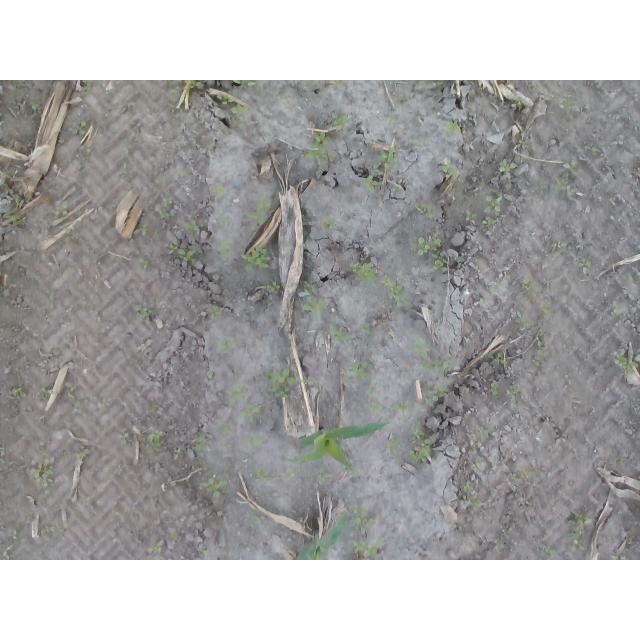Maize: (282, 422, 390, 473), (293, 510, 348, 560)
Weeds: (300, 280, 328, 322), (567, 511, 593, 553), (306, 131, 337, 165), (381, 273, 412, 307), (263, 367, 297, 398), (247, 197, 272, 232), (166, 237, 198, 264), (349, 261, 379, 288), (353, 505, 379, 536), (240, 246, 272, 271), (410, 436, 437, 464), (613, 349, 639, 376), (30, 459, 54, 488), (352, 538, 383, 560), (411, 236, 442, 257), (410, 329, 431, 359), (199, 478, 228, 499), (153, 195, 176, 221), (423, 385, 449, 407), (216, 238, 237, 265), (225, 383, 250, 405), (372, 147, 396, 169), (144, 430, 165, 455), (556, 177, 577, 198), (498, 159, 518, 181), (349, 361, 371, 381), (359, 175, 383, 193), (412, 201, 436, 219), (515, 278, 535, 299), (312, 466, 333, 486), (243, 432, 263, 453), (131, 304, 157, 320), (240, 402, 260, 422), (532, 333, 544, 366), (63, 225, 80, 248), (432, 250, 449, 273), (2, 207, 21, 226), (229, 104, 249, 121), (394, 398, 415, 414), (507, 387, 522, 409), (434, 359, 459, 372), (485, 195, 503, 213), (330, 326, 350, 342), (208, 182, 226, 199), (332, 112, 349, 130), (217, 338, 236, 354), (364, 401, 385, 415), (486, 351, 507, 365), (194, 436, 211, 453), (516, 309, 532, 327), (122, 134, 135, 155), (442, 160, 459, 176), (386, 437, 402, 453), (70, 121, 87, 136), (484, 381, 501, 396), (253, 469, 270, 484), (65, 381, 79, 399), (411, 421, 425, 439), (183, 220, 202, 233), (39, 386, 54, 402), (29, 100, 44, 116), (280, 469, 296, 484), (444, 119, 461, 133), (217, 94, 235, 107), (562, 161, 578, 175), (228, 80, 256, 88), (464, 210, 478, 226), (321, 215, 337, 229), (577, 258, 591, 274), (551, 239, 567, 253), (10, 386, 27, 399), (266, 280, 283, 293), (132, 224, 148, 237), (216, 422, 232, 435), (208, 305, 221, 320), (482, 217, 499, 228), (79, 141, 93, 154), (130, 120, 143, 134), (412, 135, 425, 149), (137, 258, 151, 271), (118, 431, 131, 445), (467, 496, 481, 509), (612, 301, 626, 314), (55, 202, 68, 215), (216, 215, 230, 227), (559, 98, 573, 110), (99, 397, 114, 408), (494, 539, 505, 554), (543, 545, 558, 556), (40, 525, 56, 535), (119, 162, 129, 178), (540, 302, 552, 315), (366, 382, 378, 395), (78, 448, 91, 460), (251, 514, 268, 523), (185, 80, 202, 89), (521, 470, 538, 479), (147, 544, 162, 554), (76, 399, 91, 409), (479, 425, 494, 435), (172, 168, 184, 180), (490, 282, 502, 294), (8, 528, 19, 541), (122, 102, 135, 113), (48, 295, 57, 310), (466, 541, 478, 552), (198, 544, 208, 557), (511, 101, 524, 111), (584, 144, 600, 152), (361, 324, 372, 335), (420, 362, 433, 371), (174, 447, 183, 460), (207, 365, 215, 379), (551, 130, 565, 138), (431, 80, 445, 88), (463, 481, 473, 492), (517, 140, 529, 149), (2, 182, 10, 195), (167, 103, 177, 113), (167, 80, 183, 86), (476, 456, 484, 468), (302, 379, 315, 386), (612, 554, 627, 560), (80, 81, 92, 88), (388, 116, 397, 125), (577, 240, 586, 248), (15, 195, 22, 205), (527, 81, 537, 88), (170, 532, 178, 540), (509, 472, 517, 480), (633, 475, 640, 482), (455, 257, 462, 264), (394, 140, 400, 148), (476, 266, 482, 271)
